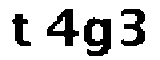3: (117, 7, 146, 50)
4: (42, 6, 79, 50)
g: (80, 16, 117, 60)
t: (8, 10, 33, 48)
